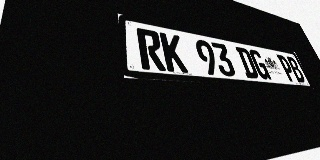3: (211, 42, 237, 77)
9: (194, 39, 221, 76)
B: (285, 56, 307, 83)
D: (235, 46, 260, 79)
G: (248, 49, 272, 80)
K: (159, 32, 188, 73)
P: (276, 54, 298, 82)
R: (136, 28, 166, 71)
